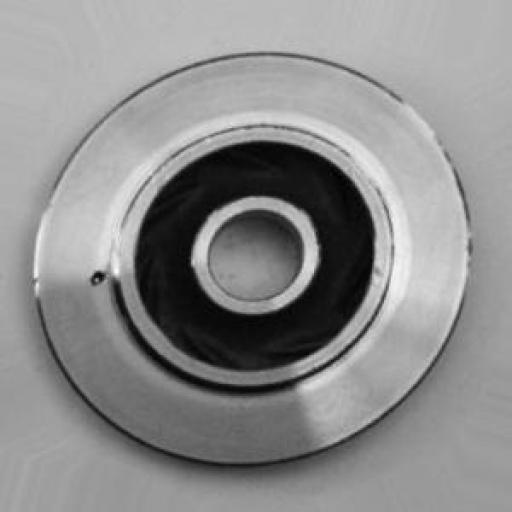defect: (64, 247, 124, 321)
